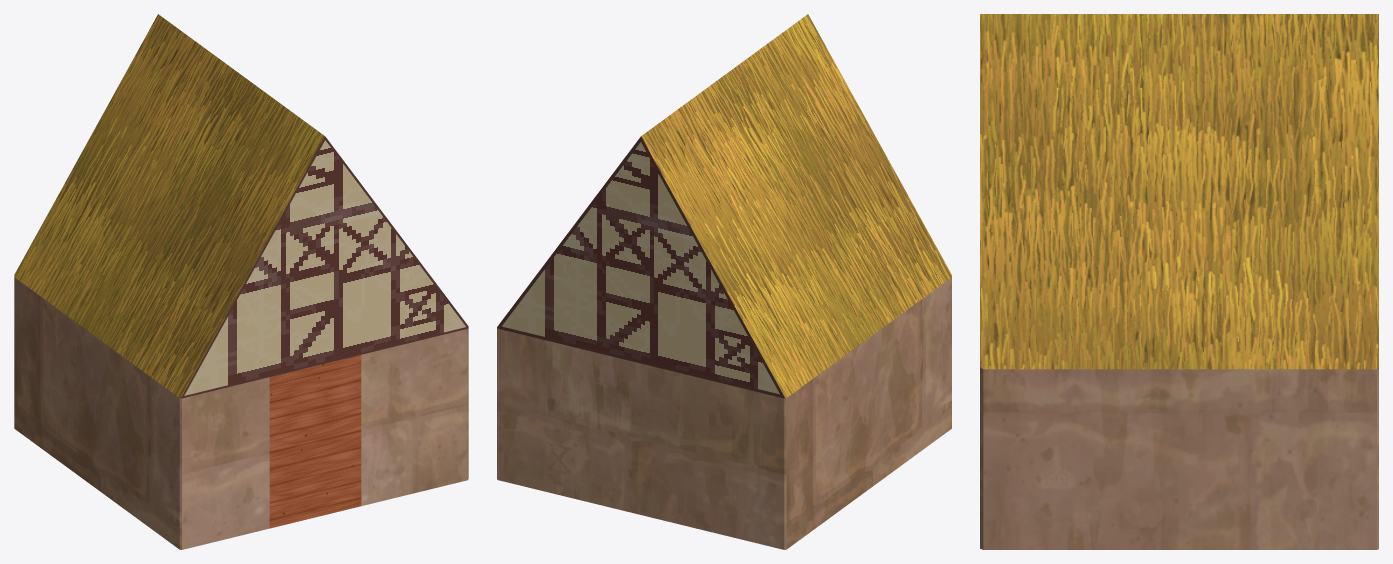
File: nobel_house3.glb
The picture shows the model from 3 angles, left to right: view 1: azimuth 30°, elevation 25°; view 2: azimuth 150°, elevation 25°; view 3: azimuth 270°, elevation 25°; orthographic projection. The views are drawn at different scales.
Visible parts, largest first — view 1: Cube; view 2: Cube; view 3: Cube.
Boxes of the visible parts, <box> form: Cube: <box>14,14,468,549</box>; Cube: <box>497,14,951,549</box>; Cube: <box>980,14,1378,549</box>.
Size of the model in its own units: 2 by 2.5 by 2.
Materials: 5 (4 with a texture image).
